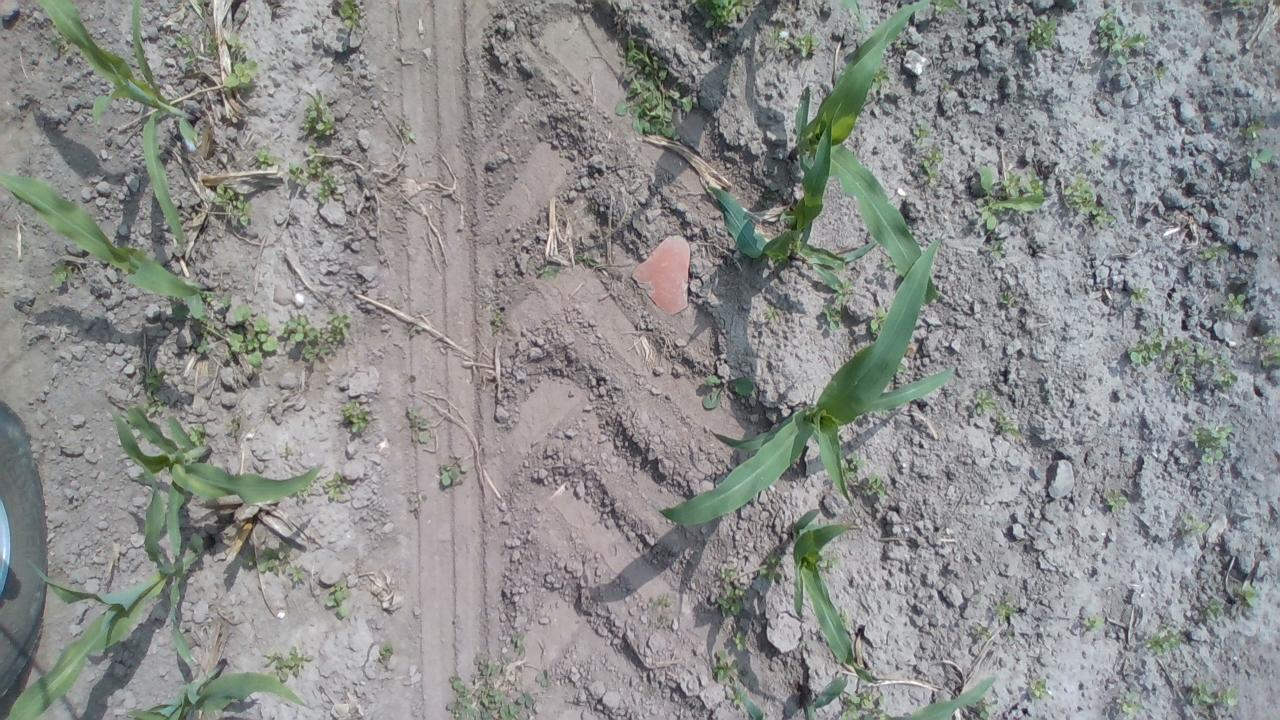Maize: (653, 227, 953, 537), (2, 447, 215, 720), (789, 8, 942, 310), (34, 0, 202, 260), (110, 392, 328, 568), (0, 165, 222, 328), (110, 612, 316, 720), (780, 502, 880, 690), (888, 671, 1001, 720)
Weeds: (612, 39, 694, 146), (1126, 328, 1238, 398), (445, 653, 537, 720), (972, 165, 1046, 235), (224, 307, 282, 371), (282, 148, 348, 200), (1090, 12, 1152, 67), (245, 539, 311, 585), (284, 314, 350, 360), (1064, 171, 1114, 228), (294, 87, 341, 142), (220, 35, 264, 93), (262, 641, 317, 683), (212, 182, 258, 231), (702, 373, 758, 411), (1185, 675, 1240, 713), (1241, 121, 1277, 179), (1190, 422, 1236, 464), (772, 25, 822, 62), (838, 687, 892, 720), (143, 368, 176, 418), (1026, 16, 1064, 59), (404, 403, 439, 449), (340, 400, 375, 442), (174, 33, 213, 70), (704, 0, 750, 31), (714, 582, 753, 616), (1146, 626, 1186, 659), (648, 595, 681, 633), (726, 623, 758, 662), (1253, 327, 1280, 371), (757, 549, 788, 587), (1230, 579, 1260, 616), (319, 472, 356, 501), (324, 584, 354, 618), (432, 462, 470, 488), (334, 0, 368, 29), (830, 278, 859, 310), (979, 234, 1012, 262), (712, 650, 739, 684), (49, 259, 80, 288), (1202, 590, 1228, 624), (841, 448, 865, 484), (1198, 240, 1230, 267), (976, 391, 1005, 420), (1106, 490, 1134, 520), (1024, 674, 1055, 701), (866, 472, 892, 504), (1116, 691, 1143, 720), (971, 693, 1000, 720), (870, 66, 900, 92), (916, 148, 941, 179), (822, 302, 846, 334), (1223, 290, 1247, 322), (910, 122, 940, 146), (996, 596, 1022, 622), (865, 306, 891, 332), (255, 146, 278, 175), (1078, 614, 1108, 636), (536, 256, 561, 282), (220, 412, 242, 440), (1218, 0, 1258, 15), (488, 306, 505, 341), (194, 335, 218, 359), (996, 411, 1020, 435), (762, 303, 784, 329), (575, 249, 601, 271), (1128, 284, 1150, 310), (1184, 514, 1206, 540), (378, 641, 402, 663), (399, 318, 424, 339), (507, 633, 532, 654), (996, 288, 1018, 310), (276, 439, 298, 460), (1148, 62, 1171, 82), (214, 295, 238, 314), (1085, 140, 1106, 161), (970, 623, 993, 642), (714, 563, 738, 581), (400, 126, 419, 146), (820, 556, 840, 573), (938, 76, 954, 96), (728, 691, 748, 707), (880, 255, 896, 270), (1005, 628, 1019, 645), (896, 361, 908, 374)
